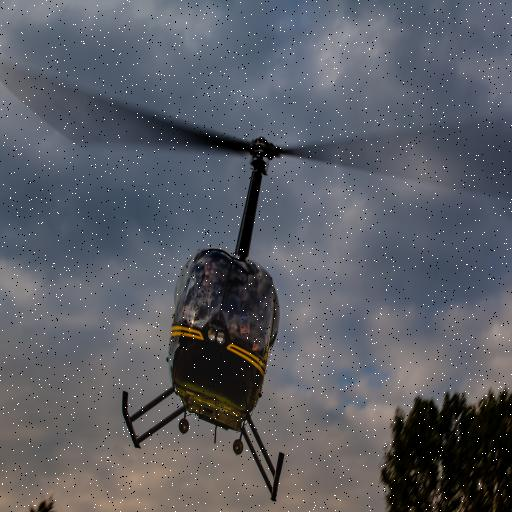helicopter: (1, 57, 483, 506)
